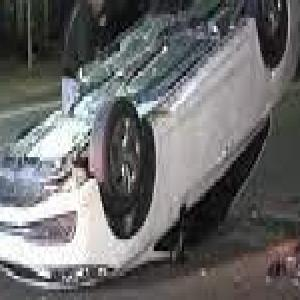severe: (0, 0, 300, 296)
